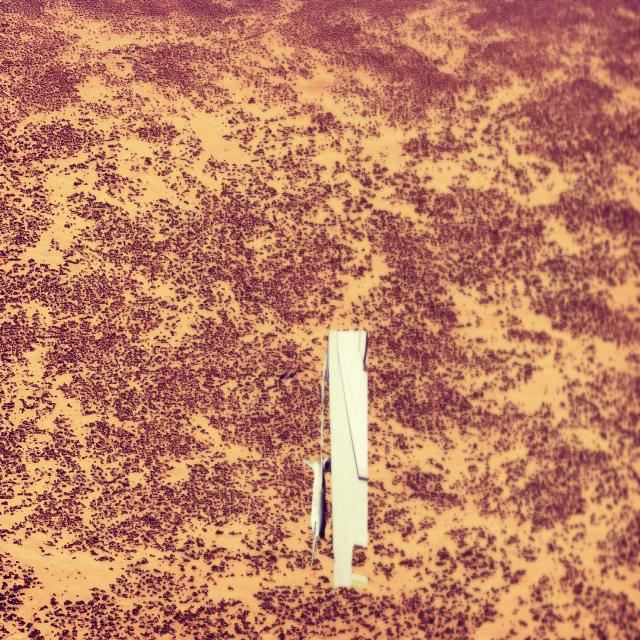airplane: (303, 328, 369, 589)
